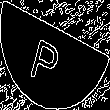P_N: (36, 24, 74, 86)
